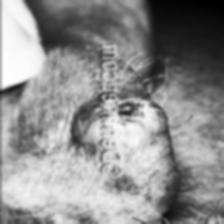Potentially Malignant Skin Tumors: (116, 90, 170, 190), (68, 91, 100, 149)
